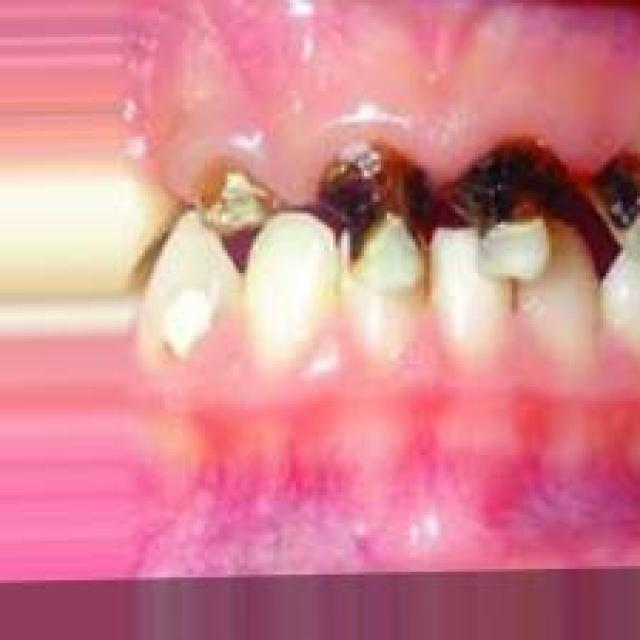caries: (299, 130, 425, 283), (436, 128, 561, 268), (182, 148, 308, 254), (571, 136, 640, 250), (131, 277, 221, 363)
